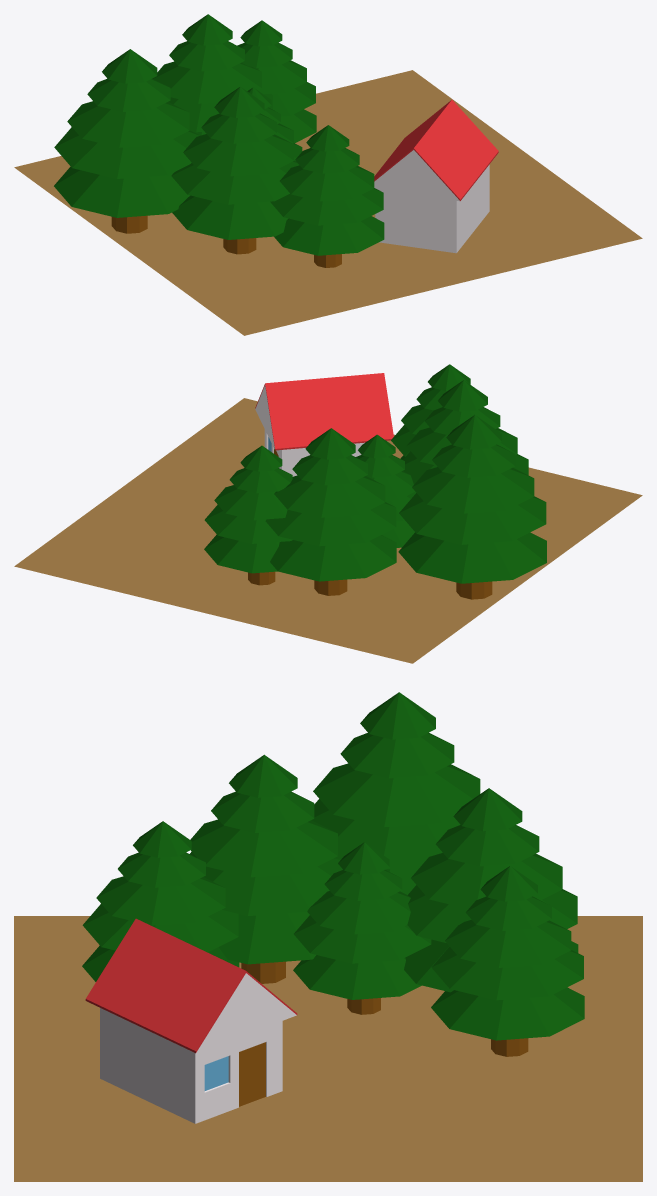
Rendered from HouseInTheWoods.glb.
3 renders of one model, top to bottom at view 1: azimuth 30°, elevation 25°; view 2: azimuth 150°, elevation 25°; view 3: azimuth 270°, elevation 25°, orthographic. The views are drawn at different scales.
Visible parts, largest first — view 1: Plane, tree.005, tree.003, Cube, tree.004, tree.002, tree, tree.001; view 2: Plane, tree.005, tree.002, Cube, tree, tree.003, tree.001, tree.004; view 3: Plane, Cube, tree.003, tree, tree.005, tree.001, tree.002, tree.004.
Boxes of the visible parts, box(x1,y1,x2,y2) form: Plane: box(14, 70, 642, 335); tree.005: box(54, 49, 199, 233); tree.003: box(171, 86, 299, 254); Cube: box(374, 99, 498, 253); tree.004: box(270, 125, 384, 267); tree.002: box(152, 14, 272, 135); tree: box(237, 20, 316, 143); tree.001: box(247, 87, 302, 160); Plane: box(14, 398, 642, 663); tree.005: box(398, 415, 546, 599); tree.002: box(265, 428, 396, 595); Cube: box(255, 373, 393, 476); tree: box(204, 445, 292, 585); tree.003: box(403, 380, 528, 484); tree.001: box(356, 434, 416, 547); tree.004: box(391, 364, 470, 459); Plane: box(14, 916, 642, 1181); Cube: box(85, 918, 297, 1123); tree.003: box(190, 754, 342, 983); tree: box(431, 866, 584, 1056); tree.005: box(311, 692, 480, 894); tree.001: box(293, 842, 431, 1014); tree.002: box(404, 788, 578, 992); tree.004: box(82, 821, 239, 981).
Bounding box in the file's own units: 5.48 × 2.12 × 5.
